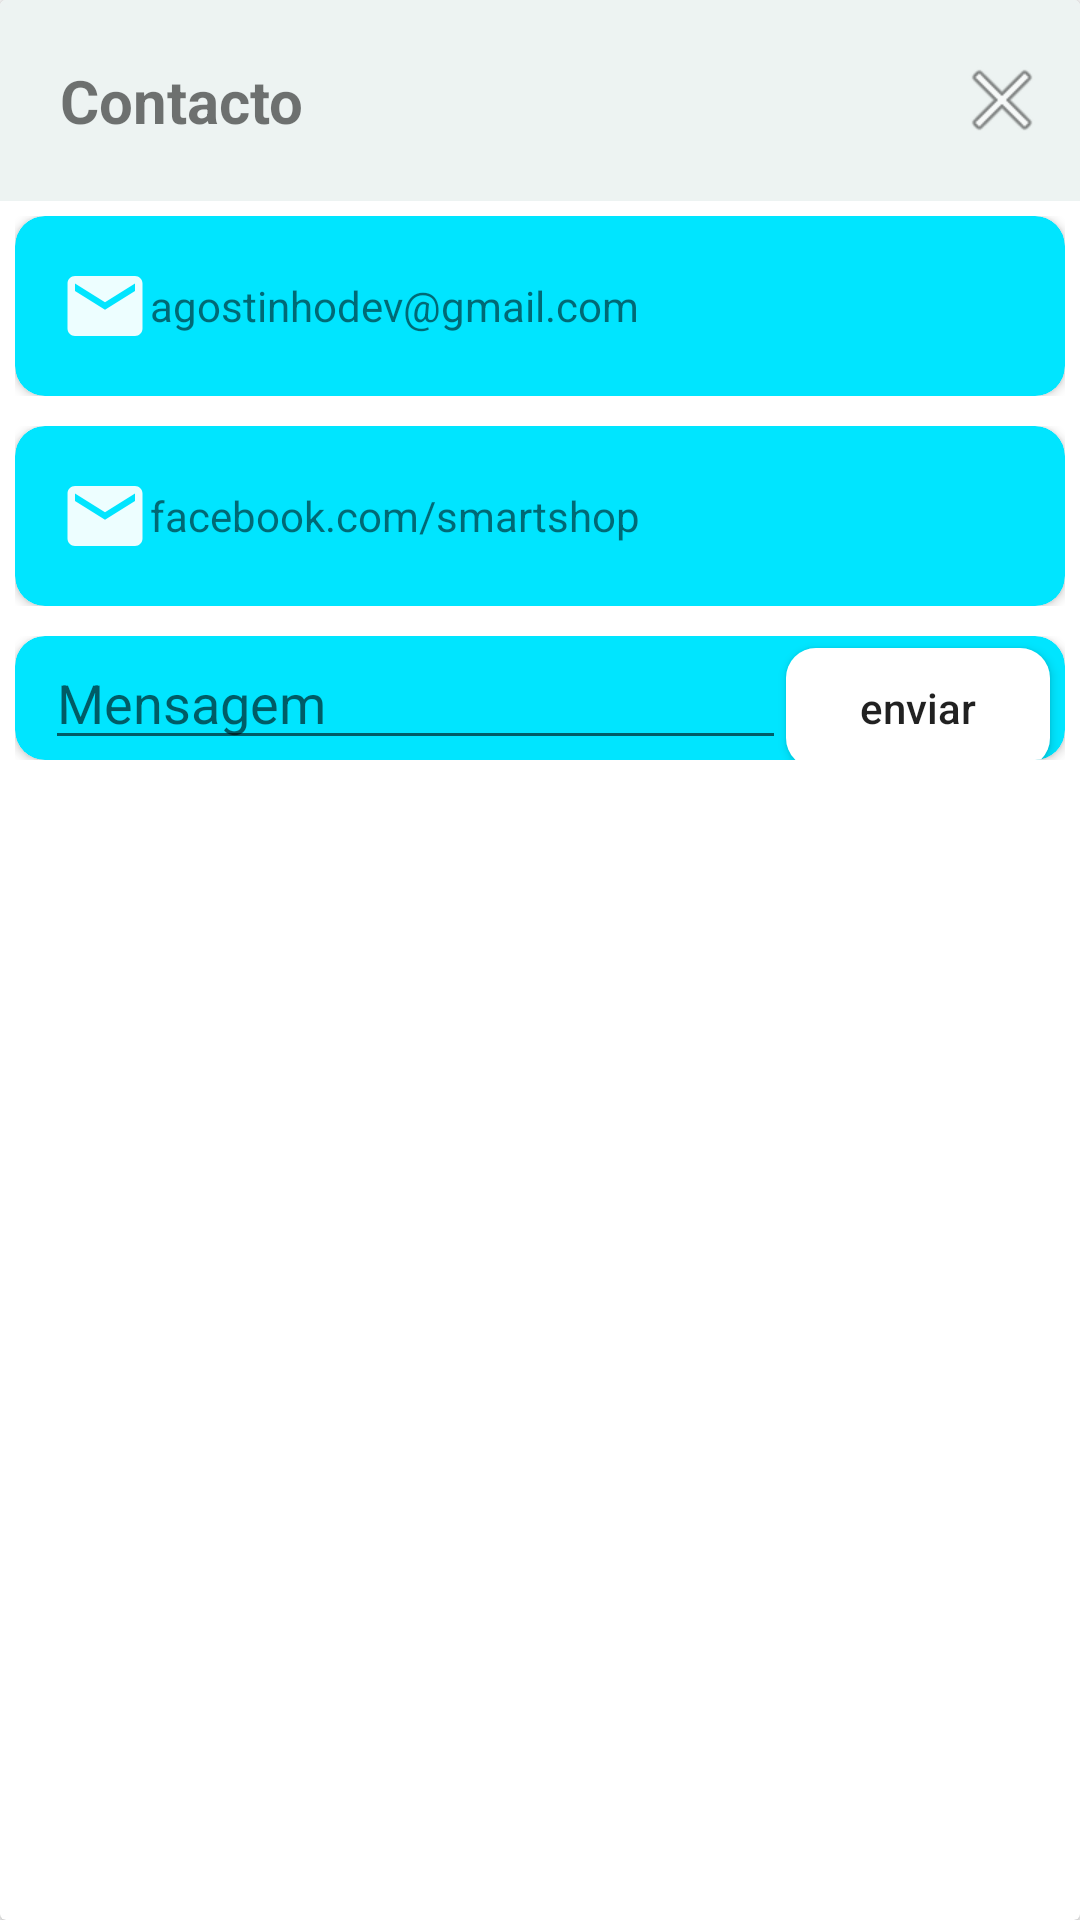

Icons on this 1080×1920 Android screen, each with its box as (x1, y1, x2, y2):
close clear cancel: (972, 70, 1032, 130)
email: (67, 276, 143, 336), (67, 486, 143, 546)
